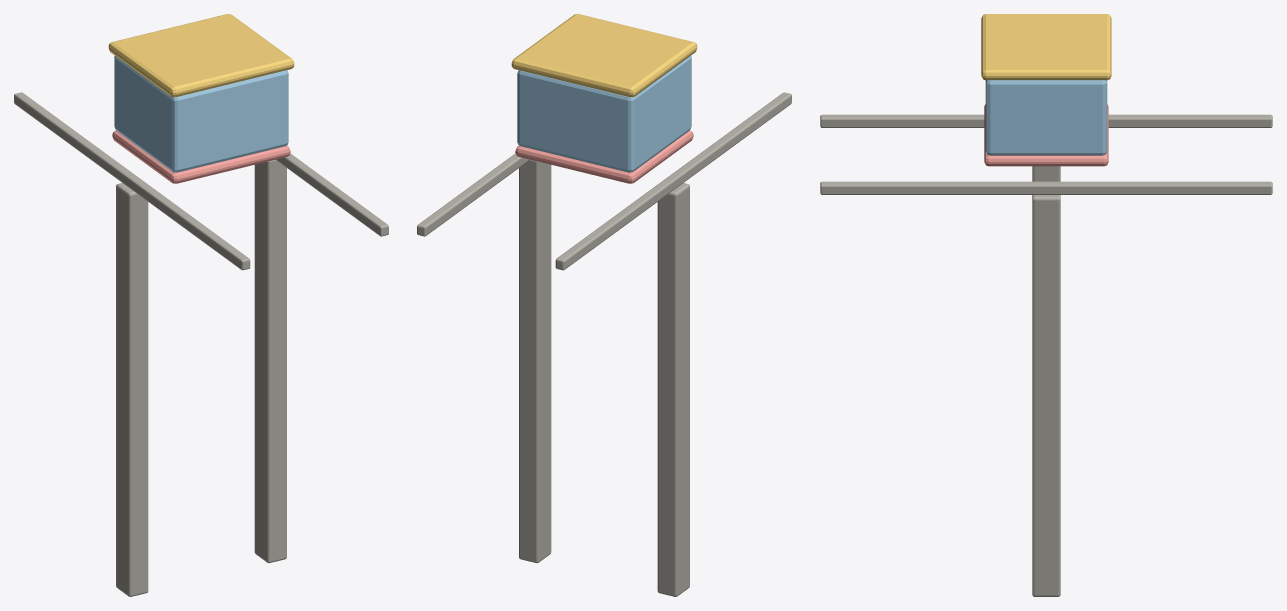
Rendered from SkyCapsule_blockout.glb.
3 views of the same model, side by side, from view 1: azimuth 30°, elevation 25°; view 2: azimuth 150°, elevation 25°; view 3: azimuth 270°, elevation 25° (orthographic).
Parts seen in each view (by area): view 1: VEH06_SkyCapsule_Pier0_L0, VEH06_SkyCapsule_CapsuleGlass_L0, VEH06_SkyCapsule_Pier1_L0, VEH06_SkyCapsule_CapsuleRoof_L0, VEH06_SkyCapsule_ElevatedRail0_L0, VEH06_SkyCapsule_CapsuleFloor_L0, VEH06_SkyCapsule_ElevatedRail1_L0; view 2: VEH06_SkyCapsule_Pier0_L0, VEH06_SkyCapsule_CapsuleGlass_L0, VEH06_SkyCapsule_Pier1_L0, VEH06_SkyCapsule_CapsuleRoof_L0, VEH06_SkyCapsule_ElevatedRail0_L0, VEH06_SkyCapsule_CapsuleFloor_L0, VEH06_SkyCapsule_ElevatedRail1_L0; view 3: VEH06_SkyCapsule_Pier1_L0, VEH06_SkyCapsule_CapsuleGlass_L0, VEH06_SkyCapsule_CapsuleRoof_L0, VEH06_SkyCapsule_ElevatedRail1_L0, VEH06_SkyCapsule_ElevatedRail0_L0, VEH06_SkyCapsule_CapsuleFloor_L0.
Part boxes in pixels (x1,y1,x2,y2): VEH06_SkyCapsule_Pier0_L0: [116, 183, 148, 596]; VEH06_SkyCapsule_CapsuleGlass_L0: [114, 56, 288, 172]; VEH06_SkyCapsule_Pier1_L0: [254, 159, 286, 563]; VEH06_SkyCapsule_CapsuleRoof_L0: [108, 14, 294, 97]; VEH06_SkyCapsule_ElevatedRail0_L0: [14, 92, 250, 270]; VEH06_SkyCapsule_CapsuleFloor_L0: [112, 130, 290, 183]; VEH06_SkyCapsule_ElevatedRail1_L0: [276, 153, 388, 236]; VEH06_SkyCapsule_Pier0_L0: [657, 183, 689, 596]; VEH06_SkyCapsule_CapsuleGlass_L0: [517, 56, 691, 172]; VEH06_SkyCapsule_Pier1_L0: [519, 159, 551, 563]; VEH06_SkyCapsule_CapsuleRoof_L0: [511, 14, 697, 97]; VEH06_SkyCapsule_ElevatedRail0_L0: [555, 92, 791, 270]; VEH06_SkyCapsule_CapsuleFloor_L0: [515, 130, 693, 183]; VEH06_SkyCapsule_ElevatedRail1_L0: [417, 153, 529, 236]; VEH06_SkyCapsule_Pier1_L0: [1032, 195, 1060, 596]; VEH06_SkyCapsule_CapsuleGlass_L0: [985, 80, 1107, 155]; VEH06_SkyCapsule_CapsuleRoof_L0: [981, 14, 1111, 80]; VEH06_SkyCapsule_ElevatedRail1_L0: [820, 181, 1272, 194]; VEH06_SkyCapsule_ElevatedRail0_L0: [820, 114, 1272, 127]; VEH06_SkyCapsule_CapsuleFloor_L0: [984, 104, 1108, 166].
Bounding box in the file's own units: 3.2 × 10.1 × 8.
